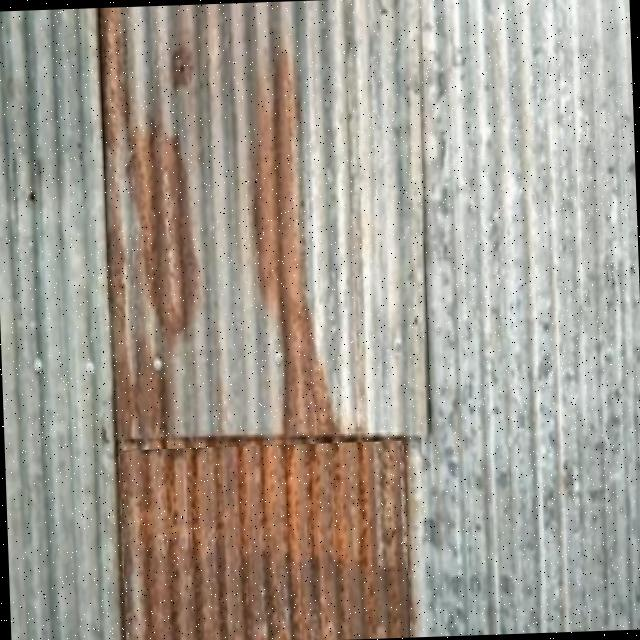Corrosion: (95, 0, 420, 640), (114, 428, 416, 640)
